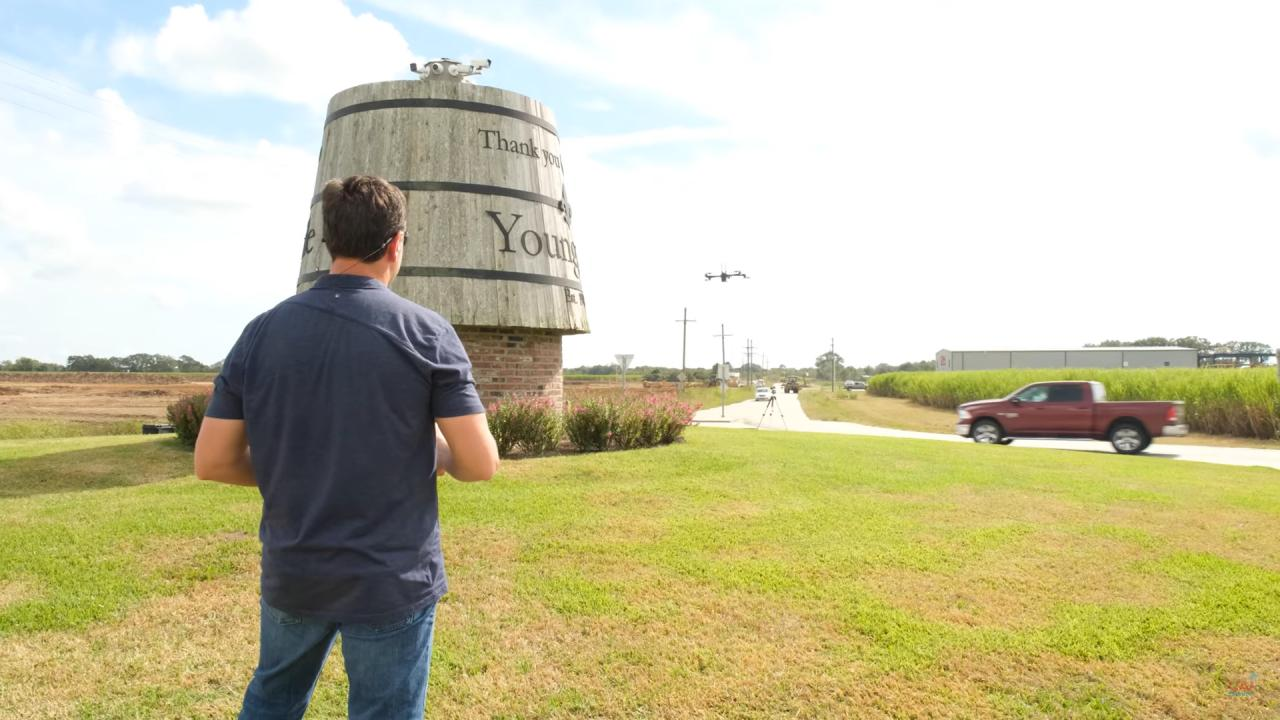Drone: (694, 258, 756, 293)
